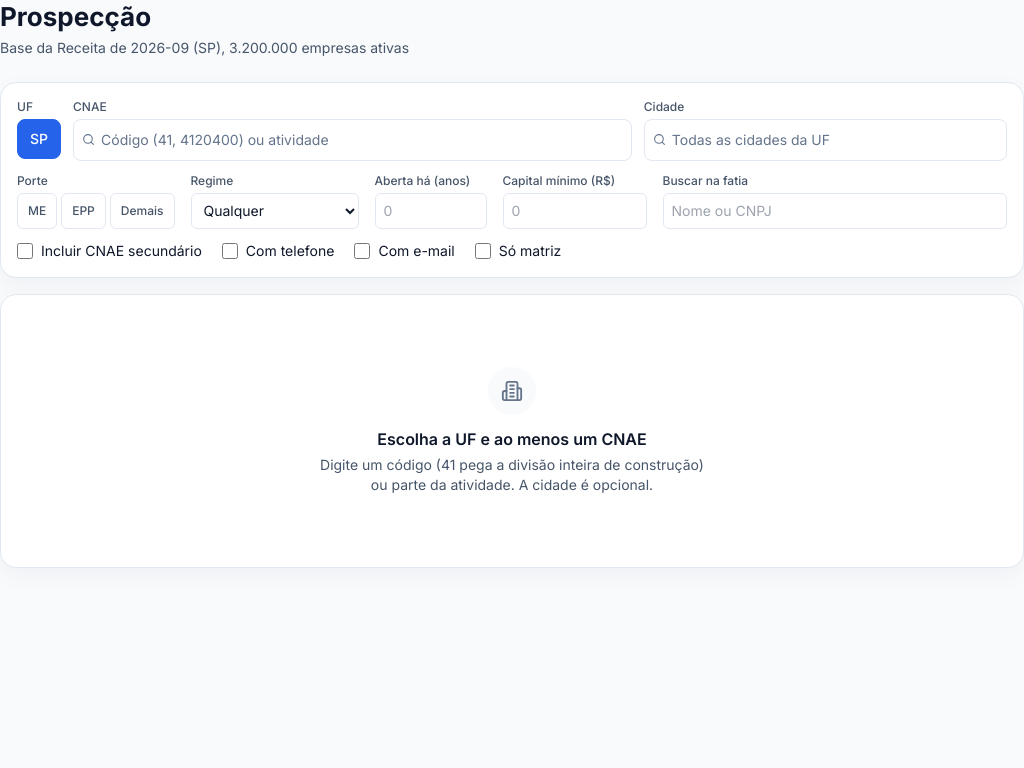
Test case: Prospeccao › puxa o lote, mostra o que ficou de fora e recarrega
Expected: the text "Escolha a UF e ao menos um CNAE" is shown, [377,427,647,451]
Type "41" into the field named "CNAE" at (362, 140), box [101,126,623,154]
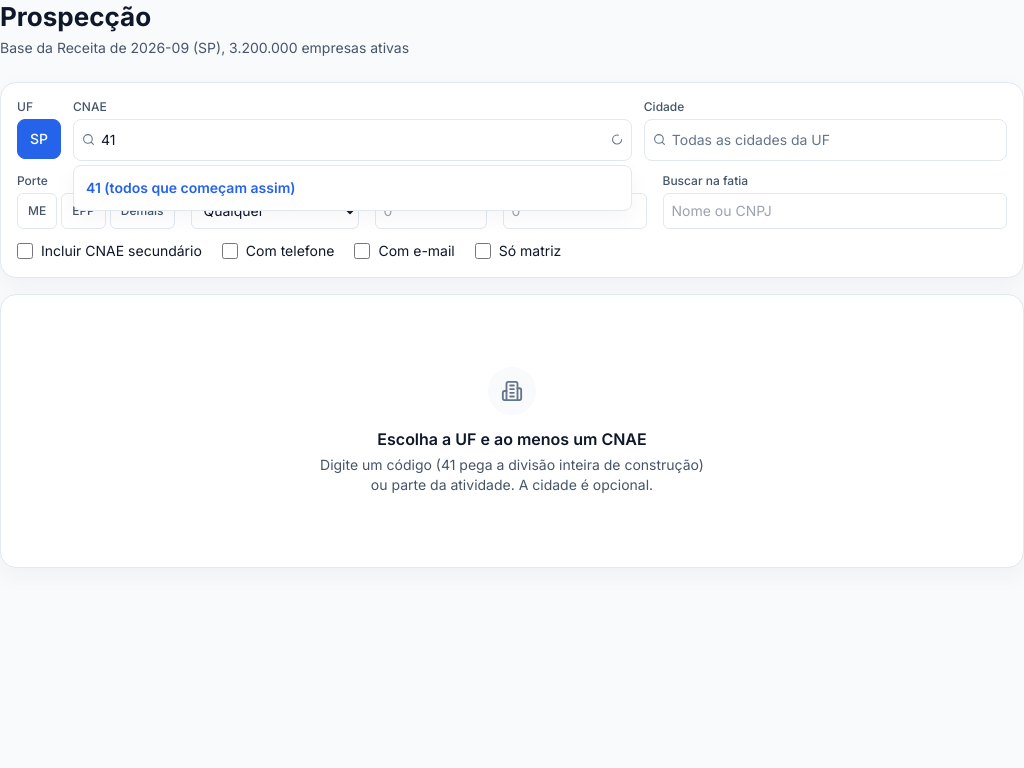
Press Enter in the field named "CNAE", box [101,126,605,154]
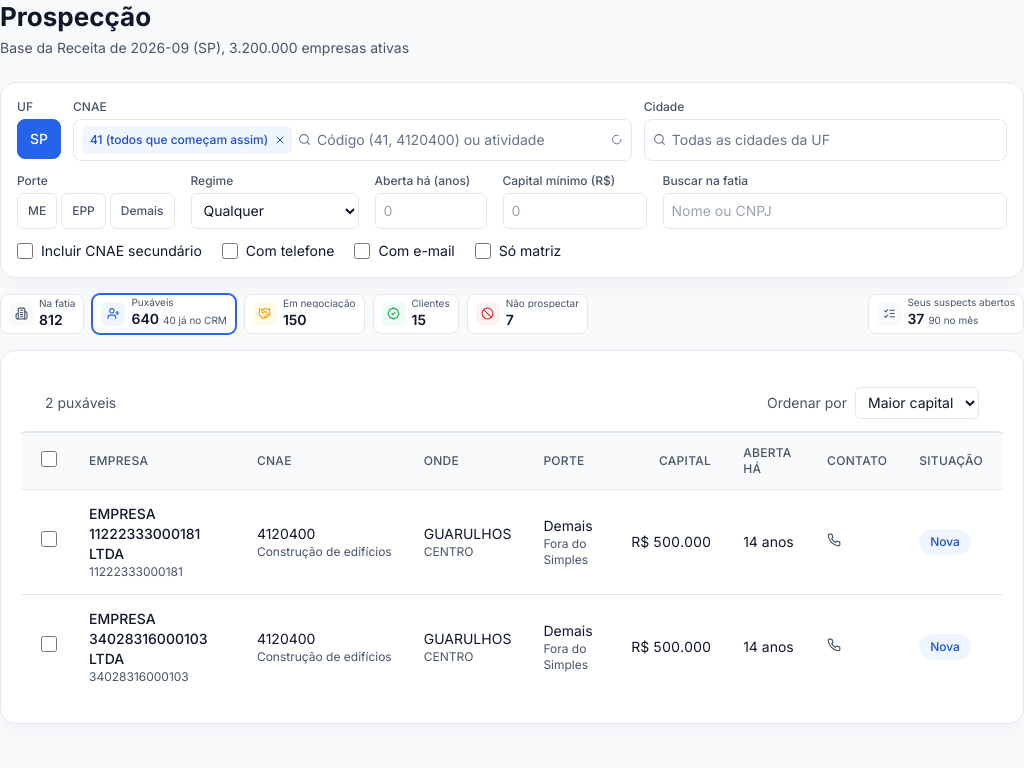
Now the text "EMPRESA 11222333000181 LTDA" is shown, box [89,505,200,562]
Click the checkbox named "Selecionar EMPRESA 11222333000181 LTDA" at (49, 539), box [41,531,57,547]
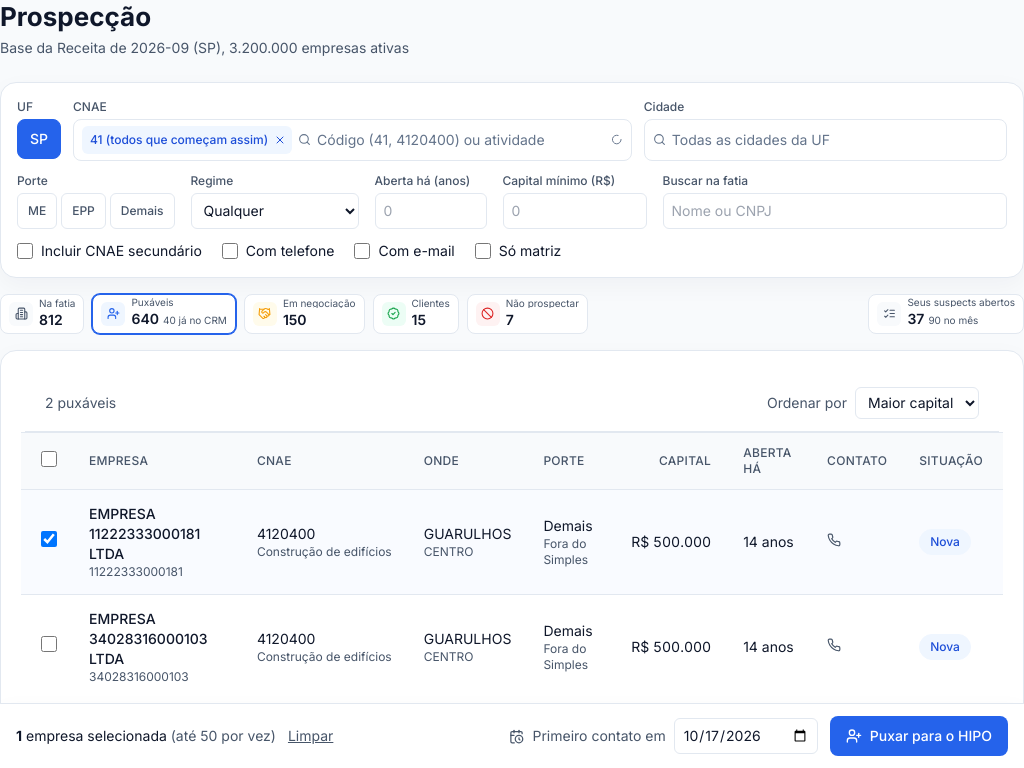
Click the checkbox named "Selecionar EMPRESA 34028316000103 LTDA" at (49, 644), box [41,636,57,652]
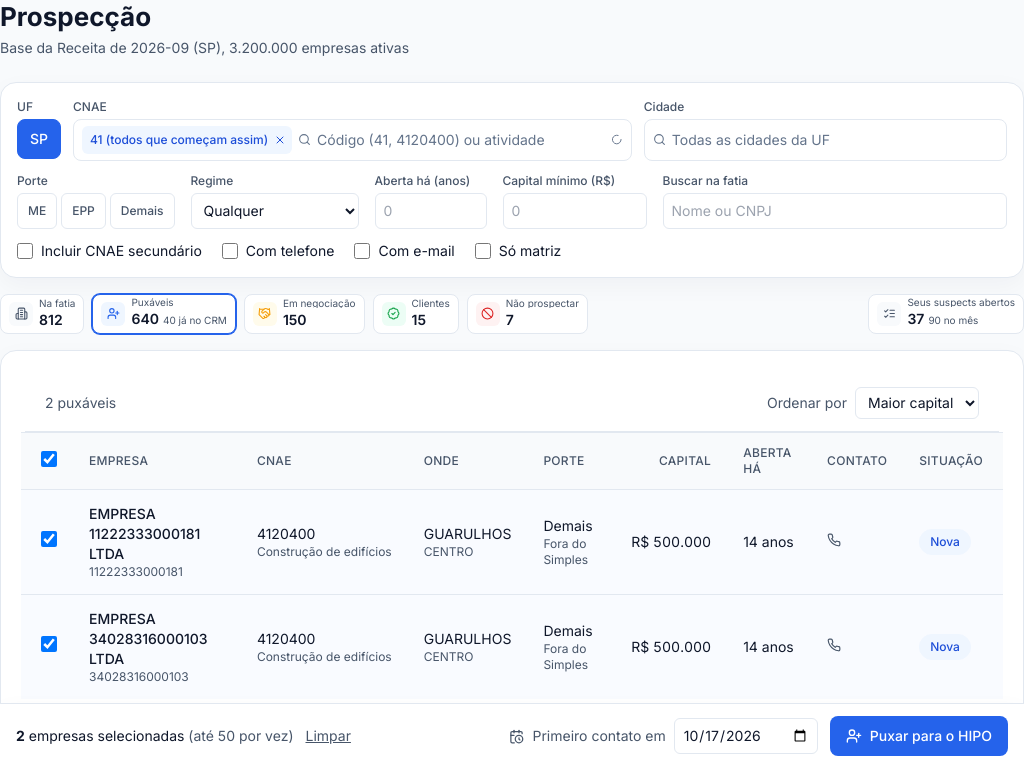
Click the button "Puxar para o HIPO" at (919, 736), box [830,716,1008,756]
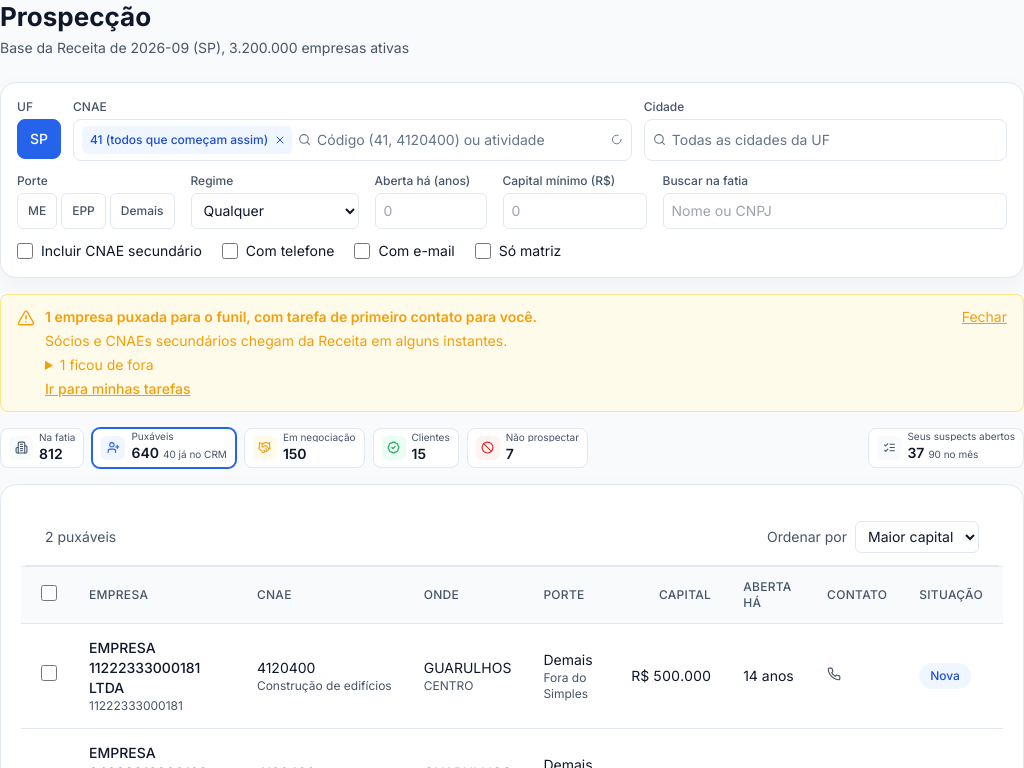
Now the text "1 empresa puxada para o funil" is shown, box [45,308,537,325]
Now the button "Puxar para o HIPO" is gone
